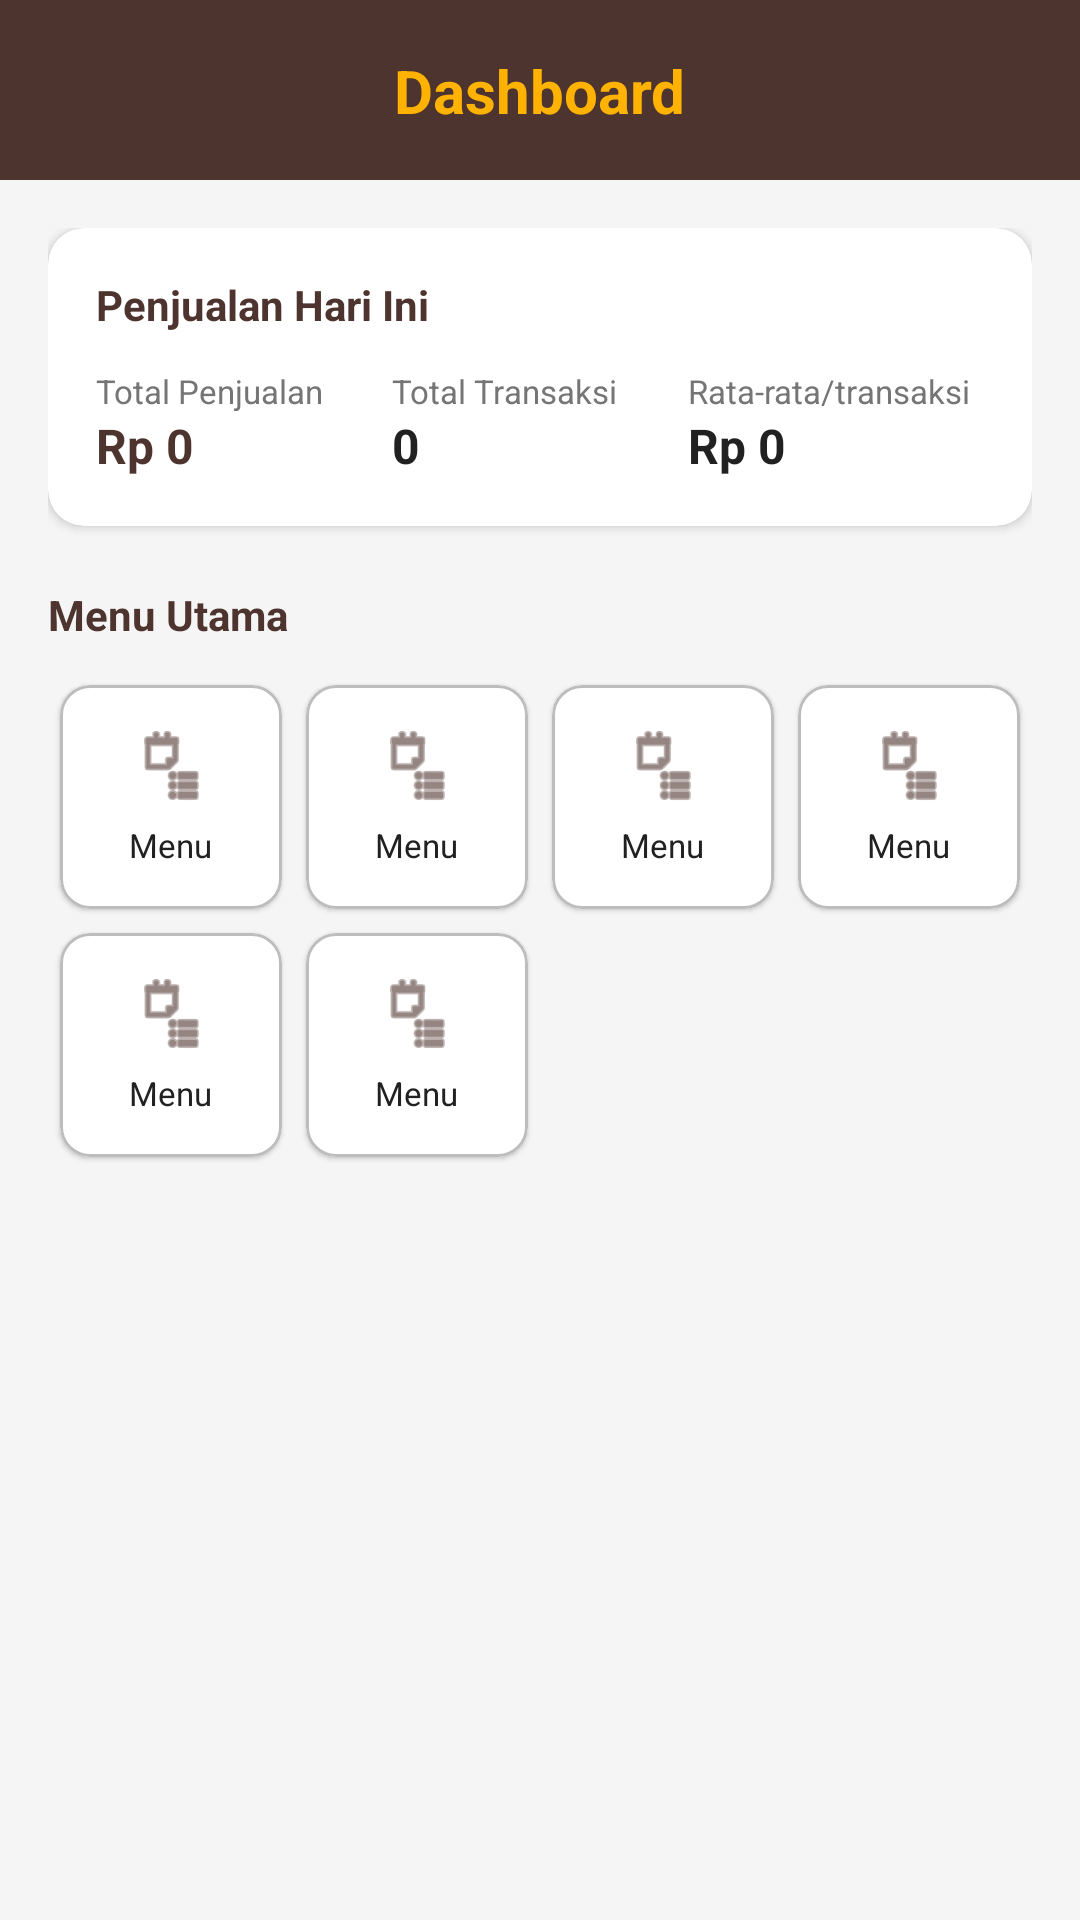

Point at icon controls on the screen. Image size 1080*1920, points as point (x, y).
agenda: point (171, 765), point (417, 765), point (663, 765), point (909, 765), point (171, 1013), point (417, 1013)
